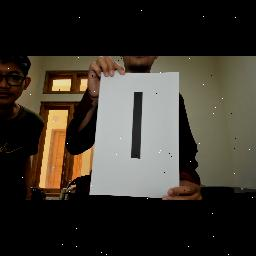i: (127, 89, 147, 165)
